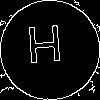H: (25, 25, 65, 73)
